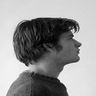ear: (37, 33, 59, 57)
